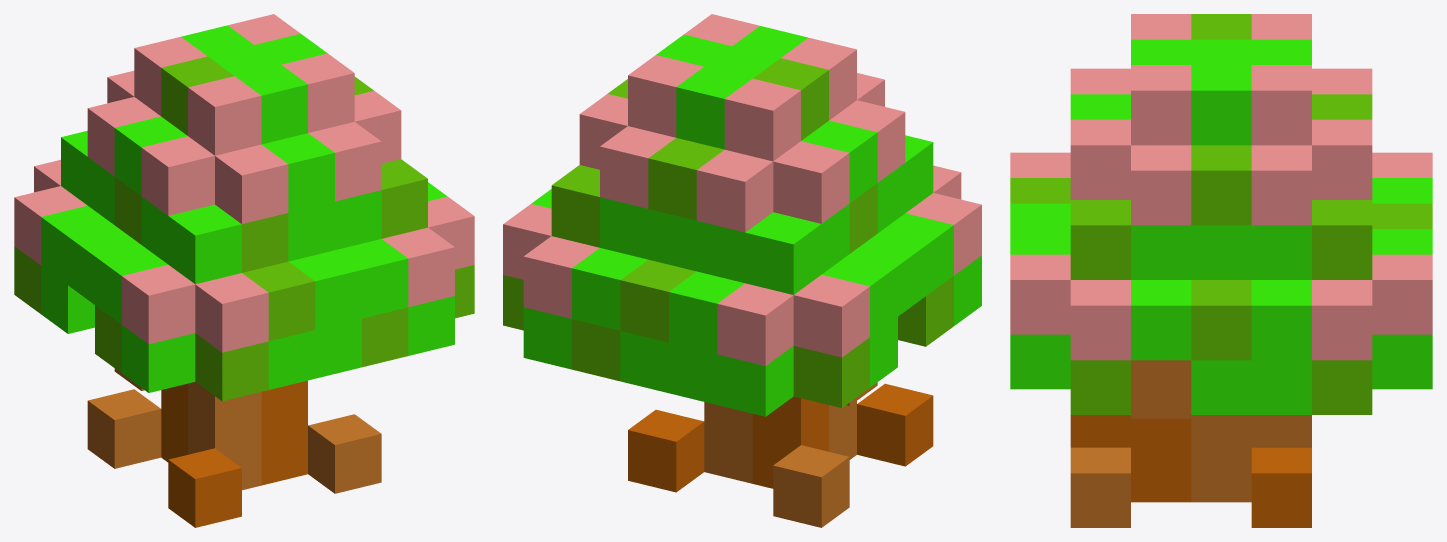
File: Gireth_Sharik_Alvarado_Rubio_fase_2.obj
3 views of the same model, side by side, from view 1: azimuth 30°, elevation 25°; view 2: azimuth 150°, elevation 25°; view 3: azimuth 270°, elevation 25° (orthographic). The views are drawn at different scales.
Parts seen in each view (by area): view 1: Gireth_Sharik_Alvarado_Rubio_fase_2; view 2: Gireth_Sharik_Alvarado_Rubio_fase_2; view 3: Gireth_Sharik_Alvarado_Rubio_fase_2.
Part boxes in pixels (<box>): Gireth_Sharik_Alvarado_Rubio_fase_2: <box>14,14,474,527</box>; Gireth_Sharik_Alvarado_Rubio_fase_2: <box>503,14,981,527</box>; Gireth_Sharik_Alvarado_Rubio_fase_2: <box>1010,14,1432,527</box>.
Size of the model in its own units: 7 by 8 by 7.
Materials: 1 (1 with a texture image).
